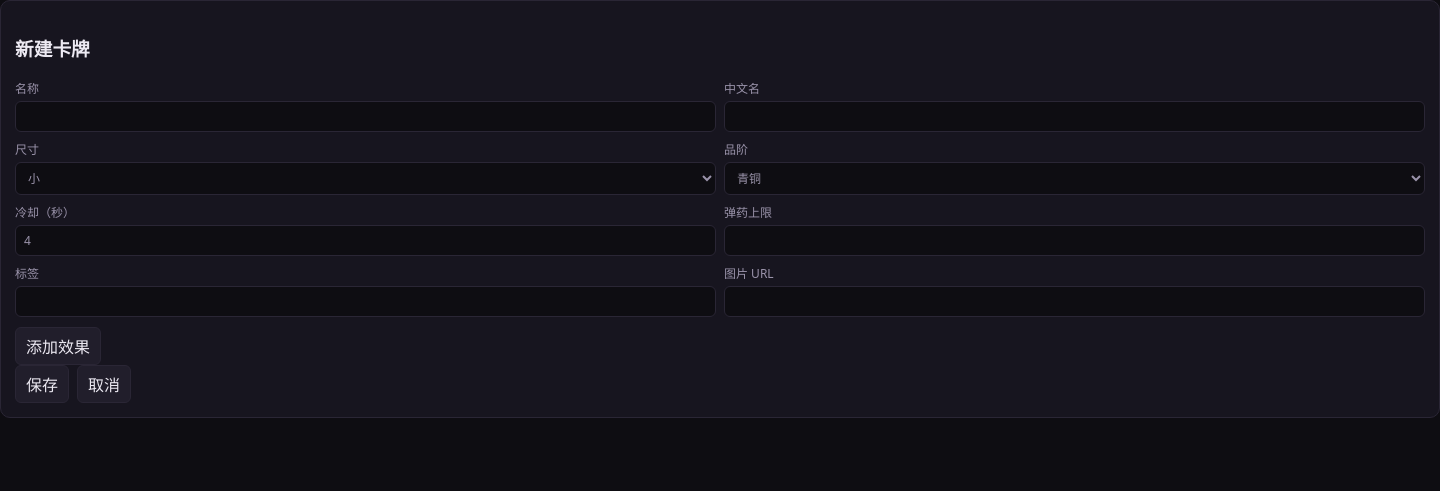
Test: CardEditor › rejects cooldown below 0.1
This screenshot has width=1440, height=491.
Type "测试卡" into the field labelled "名称" at (366, 117), box [15,101,716,132]
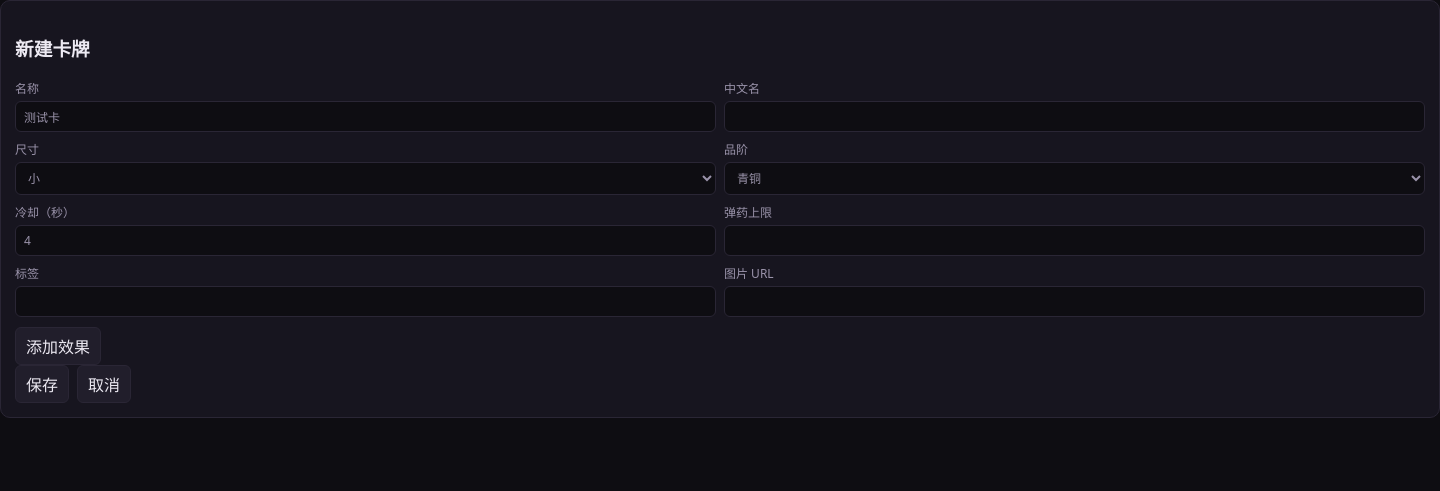
Replace the text in the number field labelled "冷却（秒）" with "0" at (366, 241), box [15,225,716,256]
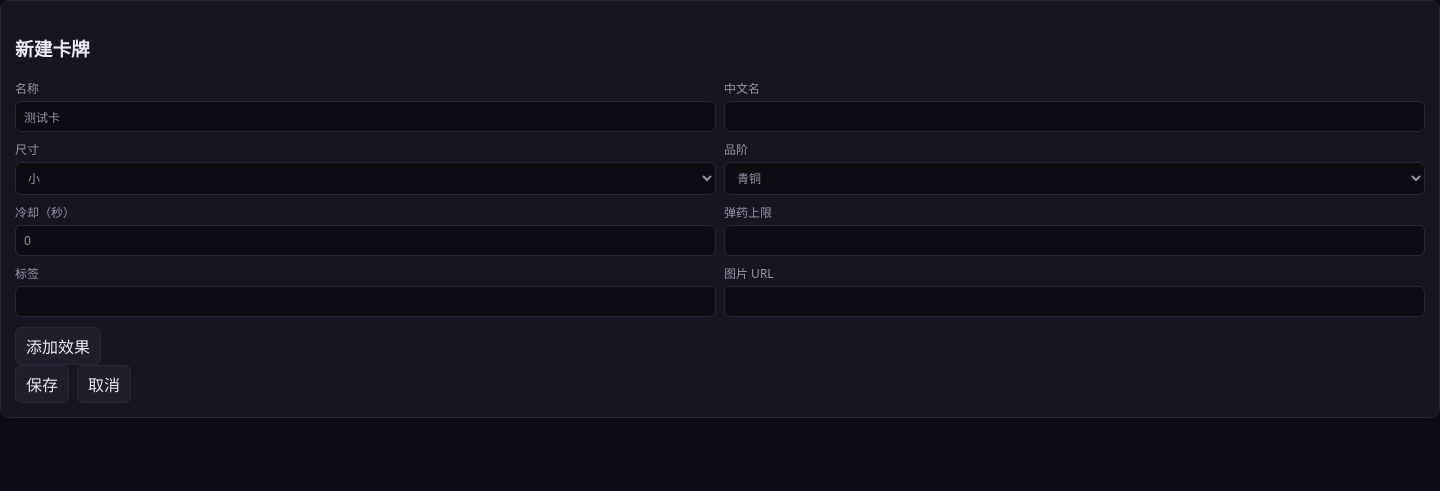
Click the button "保存" at (42, 384), box [15,365,69,403]
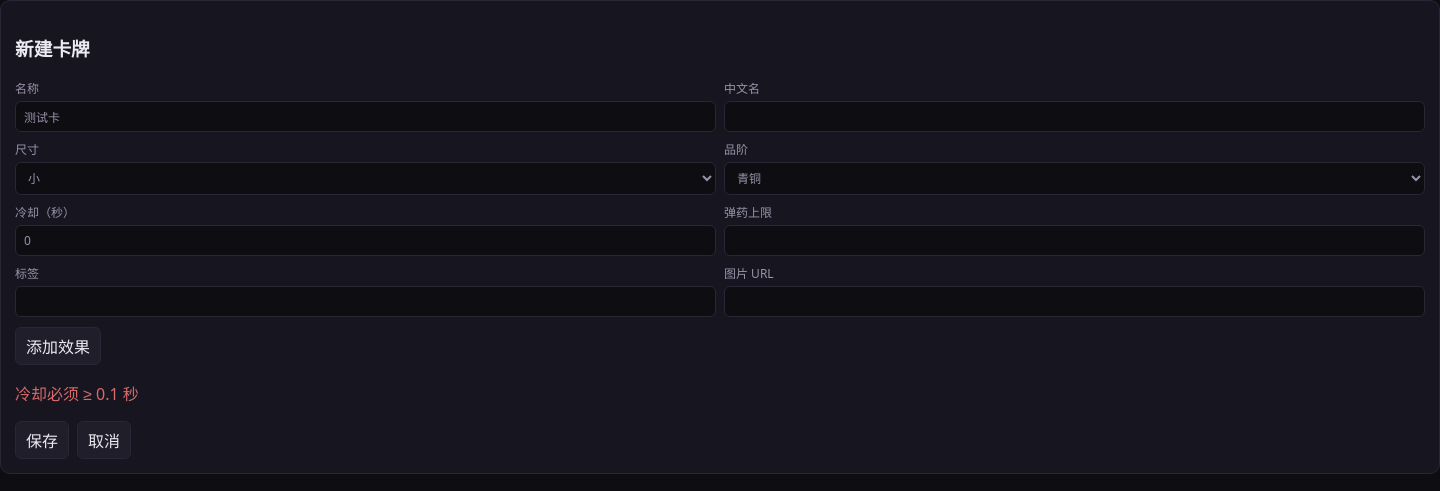
expect the text "冷却必须 ≥ 0.1 秒" is shown: met, box [15,383,139,405]
